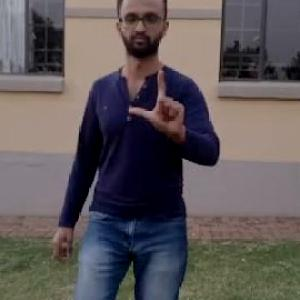land_hand: (119, 63, 191, 148)
